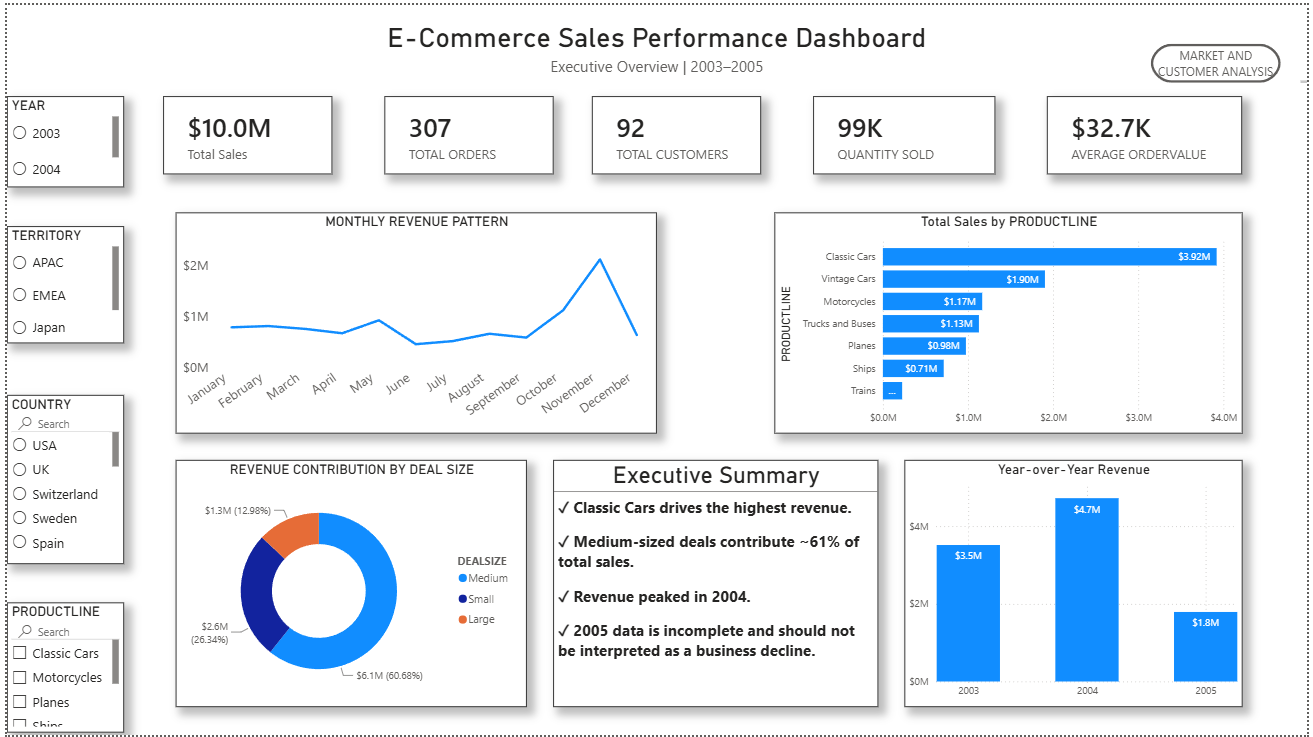

The dashboard page shown, as its layout file describes it:
{"tool":"powerbi","page":{"name":"1.EXECUTIVE SALES OVERVIEW","canvas":[1600,900],"ordinal":0},"visuals":[{"type":"textbox","title":"E-Commerce Sales Performance Dashboard","box":[0,0,1600,96],"z":0},{"type":"listSlicer","title":"YEAR","fields":{"Values":["sales data project1.YEAR_ID"]},"box":[0,112,144,112],"z":1000},{"type":"listSlicer","fields":{"Values":["sales data project1.TERRITORY"]},"box":[0,272,144,144],"z":2000},{"type":"listSlicer","fields":{"Values":["sales data project1.PRODUCTLINE"]},"box":[0,736,144,160],"z":3000},{"type":"listSlicer","fields":{"Values":["sales data project1.COUNTRY"]},"box":[0,480,144,208],"z":4000},{"type":"cardVisual","fields":{"Data":["sales data project1.Total Sales"]},"box":[192,112,208,96],"z":5000},{"type":"cardVisual","fields":{"Data":["sales data project1.TOTAL ORDERS"]},"box":[464,112,208,96],"z":6000},{"type":"cardVisual","fields":{"Data":["sales data project1.TOTAL CUSTOMERS"]},"box":[720,112,208,96],"z":7000},{"type":"cardVisual","fields":{"Data":["sales data project1.QUANTITY SOLD"]},"box":[992,112,224,96],"z":8000},{"type":"cardVisual","fields":{"Data":["sales data project1.AVERAGE ORDERVALUE"]},"box":[1280,112,240,96],"z":9000},{"type":"lineChart","title":"MONTHLY REVENUE PATTERN","fields":{"Y":["sales data project1.Total Sales"],"Category":["sales data project1.ORDERDATE.Variation.Date Hierarchy.Year","sales data project1.ORDERDATE.Variation.Date Hierarchy.Month"]},"box":[208,256,592,272],"z":10000},{"type":"clusteredBarChart","fields":{"Y":["sales data project1.Total Sales"],"Category":["sales data project1.PRODUCTLINE"]},"box":[944,256,576,272],"z":11000},{"type":"donutChart","title":"REVENUE CONTRIBUTION BY DEAL SIZE","fields":{"Category":["sales data project1.DEALSIZE"],"Y":["sales data project1.Total Sales"]},"box":[208,560,432,304],"z":12000},{"type":"clusteredColumnChart","title":"Year-over-Year Revenue","fields":{"Category":["sales data project1.YEAR_ID"],"Y":["sales data project1.Total Sales"]},"box":[1104,560,416,304],"z":13000},{"type":"textbox","title":"Executive Summary","box":[672,560,400,304],"z":14000},{"type":"actionButton","box":[1408,48,160,48],"z":15000}]}

Visuals, with their boxes in screenshot pixels (x1, y1, x2, y2), scaled from the page's 1600x900 canvas onto the 1313x737 screenshot:
"E-Commerce Sales Performance Dashboard" textbox: BBox(0, 0, 1312, 79)
"YEAR" listSlicer: BBox(0, 92, 118, 183)
listSlicer - sales data project1.TERRITORY: BBox(0, 223, 118, 341)
listSlicer - sales data project1.PRODUCTLINE: BBox(0, 603, 118, 734)
listSlicer - sales data project1.COUNTRY: BBox(0, 393, 118, 563)
cardVisual - sales data project1.Total Sales: BBox(158, 92, 328, 170)
cardVisual - sales data project1.TOTAL ORDERS: BBox(381, 92, 551, 170)
cardVisual - sales data project1.TOTAL CUSTOMERS: BBox(591, 92, 762, 170)
cardVisual - sales data project1.QUANTITY SOLD: BBox(814, 92, 998, 170)
cardVisual - sales data project1.AVERAGE ORDERVALUE: BBox(1050, 92, 1247, 170)
"MONTHLY REVENUE PATTERN" lineChart: BBox(171, 210, 656, 432)
clusteredBarChart - sales data project1.Total Sales x sales data project1.PRODUCTLINE: BBox(775, 210, 1247, 432)
"REVENUE CONTRIBUTION BY DEAL SIZE" donutChart: BBox(171, 459, 525, 708)
"Year-over-Year Revenue" clusteredColumnChart: BBox(906, 459, 1247, 708)
"Executive Summary" textbox: BBox(551, 459, 880, 708)
actionButton: BBox(1155, 39, 1287, 79)
